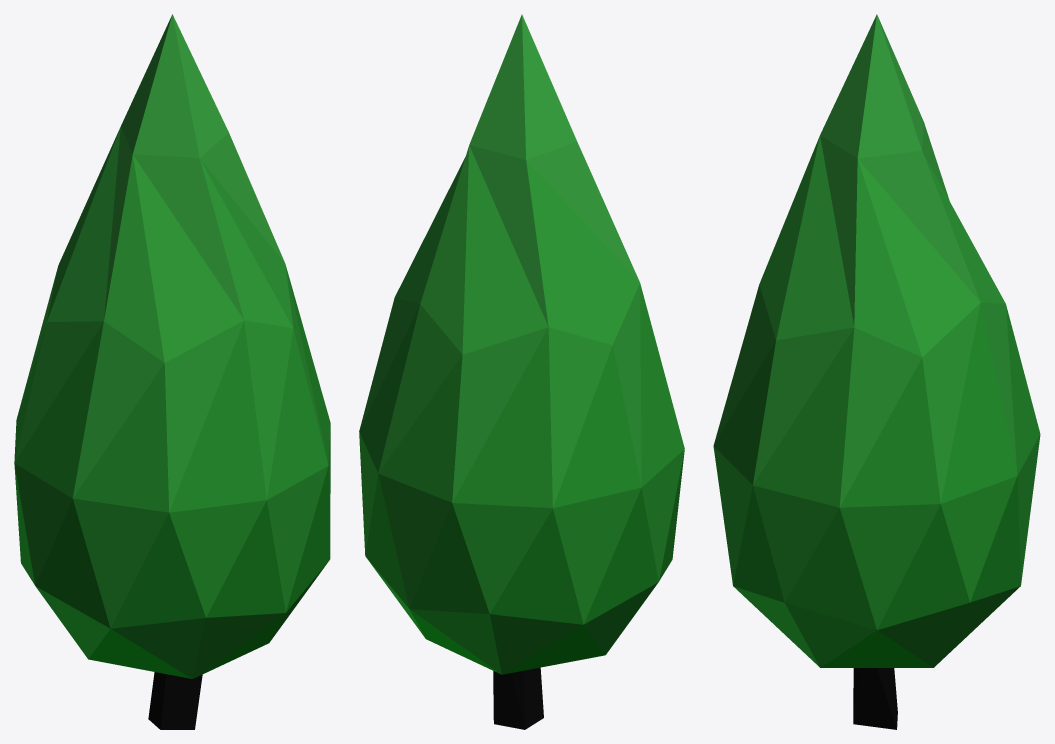
The model's file is Taiga_Tree1.fbx.
3 views of the same model, side by side, from view 1: azimuth 30°, elevation 25°; view 2: azimuth 150°, elevation 25°; view 3: azimuth 270°, elevation 25° (orthographic).
Visible parts, largest first — view 1: Icosphere.001; view 2: Icosphere.001; view 3: Icosphere.001.
Part boxes in pixels (bbox=[...]): Icosphere.001: bbox=[14, 14, 330, 729]; Icosphere.001: bbox=[359, 14, 684, 729]; Icosphere.001: bbox=[713, 14, 1040, 729].
Bounding box in the file's own units: 229 × 560 × 235.
